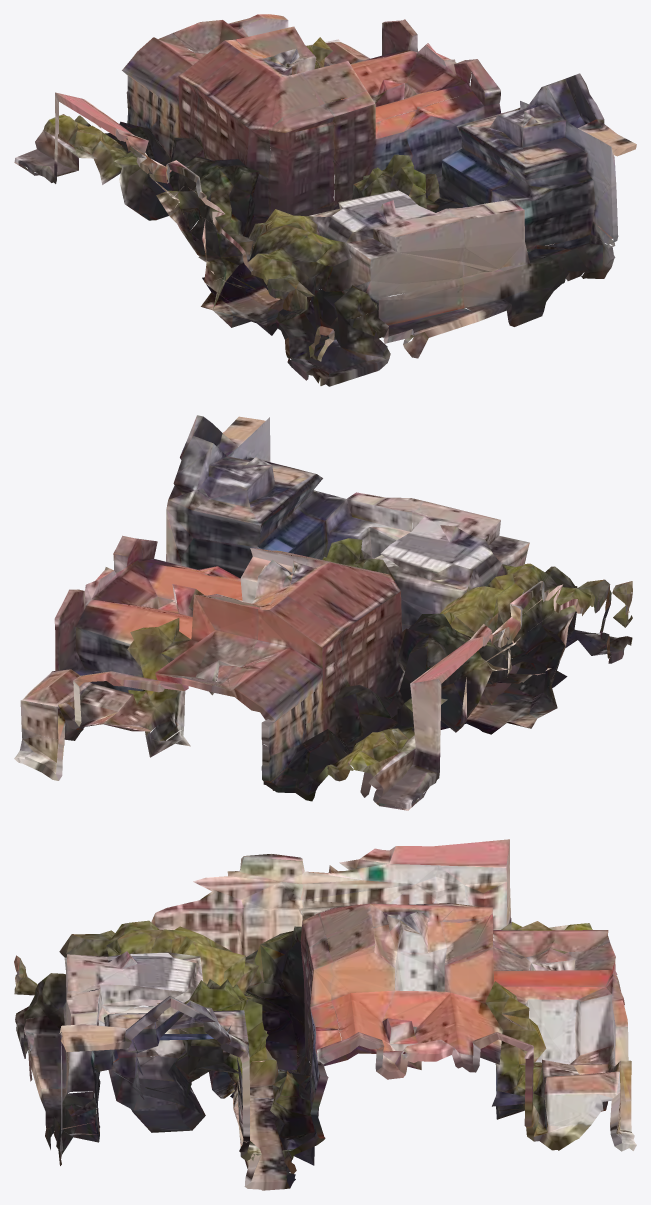
The picture shows the model from 3 angles, top to bottom: view 1: azimuth 30°, elevation 25°; view 2: azimuth 150°, elevation 25°; view 3: azimuth 270°, elevation 25°; orthographic projection. The views are drawn at different scales.
Visible parts, largest first — view 1: Mesh_0; view 2: Mesh_0; view 3: Mesh_0.
Part boxes in pixels (x1,y1,x2,y2): Mesh_0: (14, 14, 636, 386); Mesh_0: (14, 415, 632, 810); Mesh_0: (14, 839, 636, 1190).
Size of the model in its own units: 66.56 by 30.2 by 82.74.
1 material, 1 textured.
